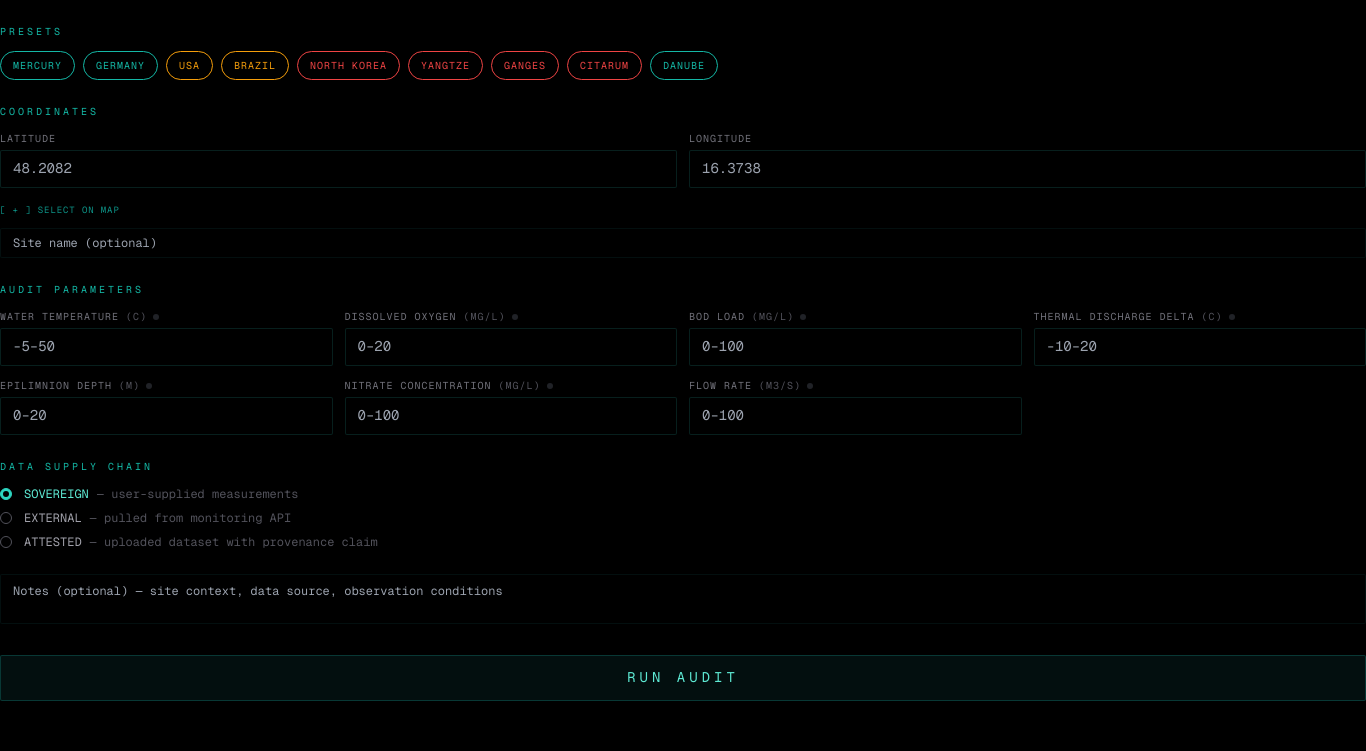
Test: SubmissionForm coordinates at submit › merges coordinate errors with the parameter errors
This screenshot has width=1366, height=751.
Click the button "GERMANY". click: click(120, 66)
box: [83,51,158,80]
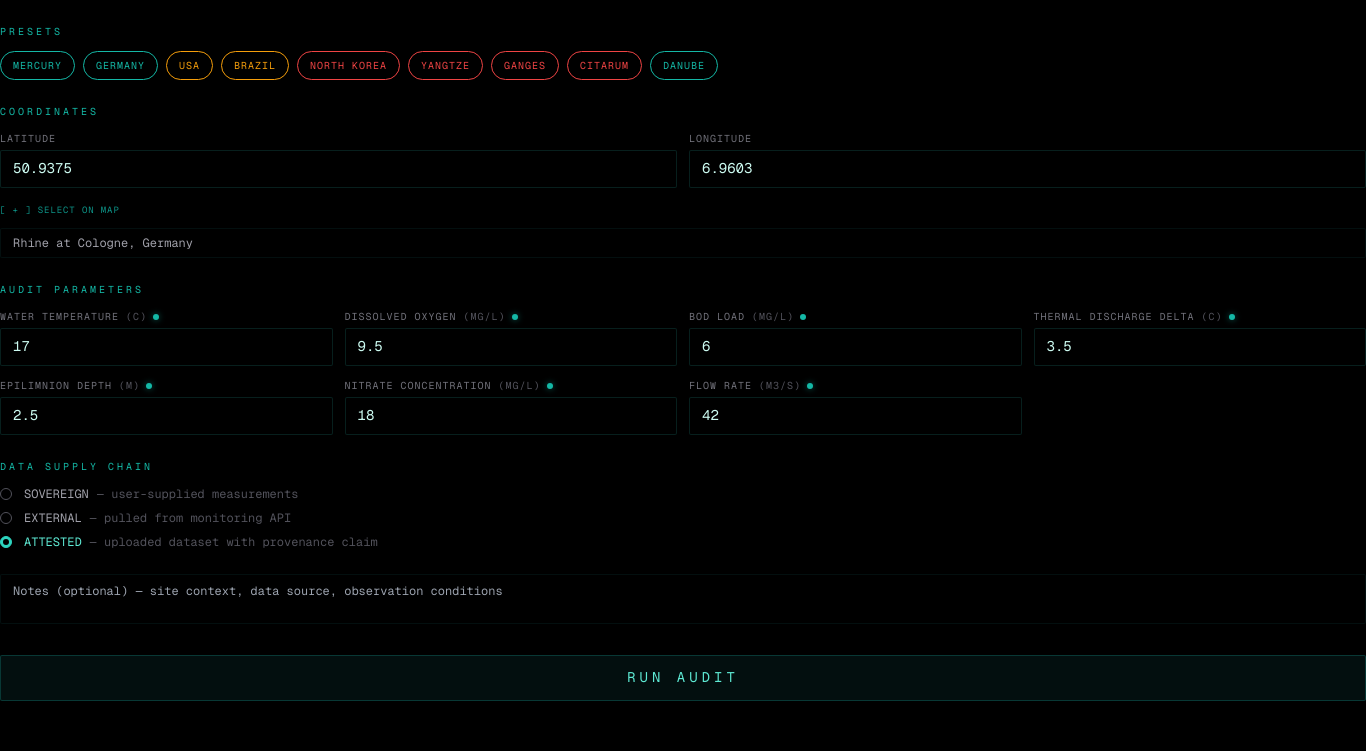
Replace the text in the number field below "Latitude" with "95". click: (338, 169)
box: [0,150,677,188]
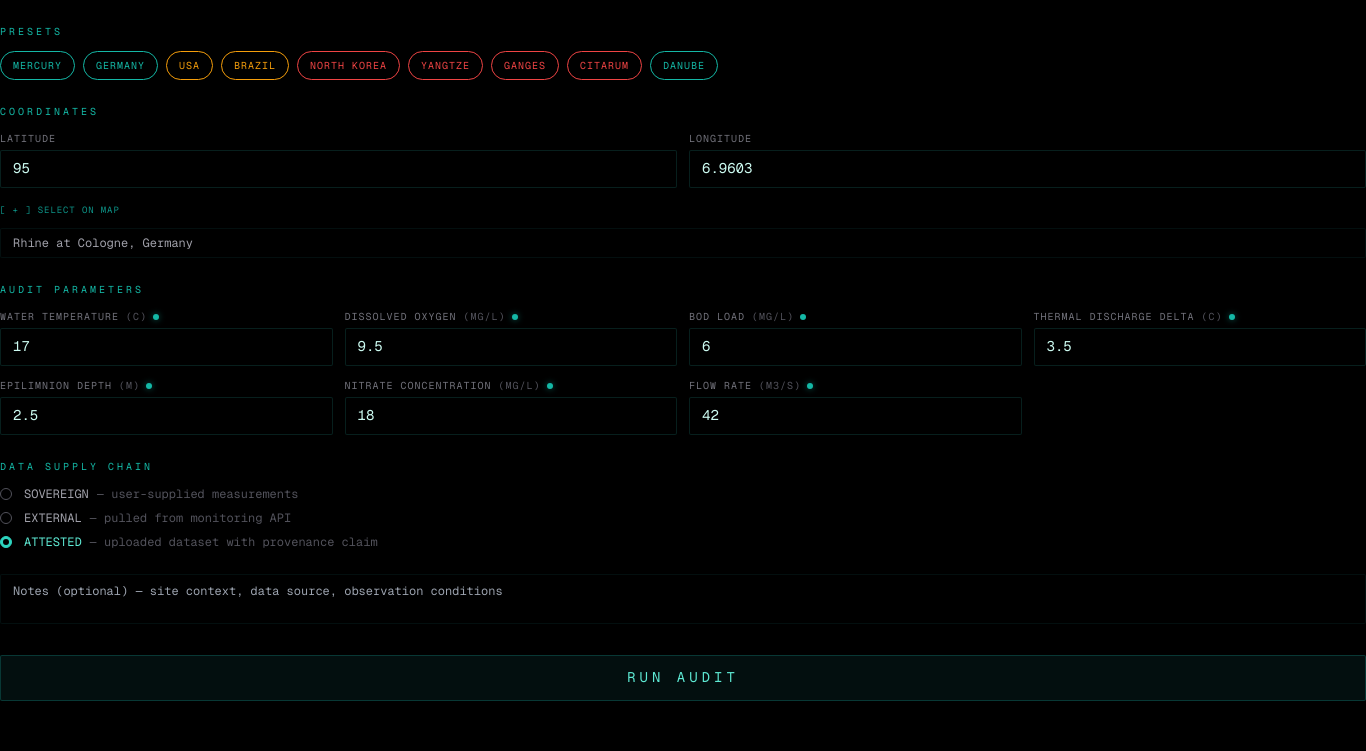
Replace the text in the number field below "Longitude" with "13.4". click: (1028, 169)
box: [689,150,1365,188]
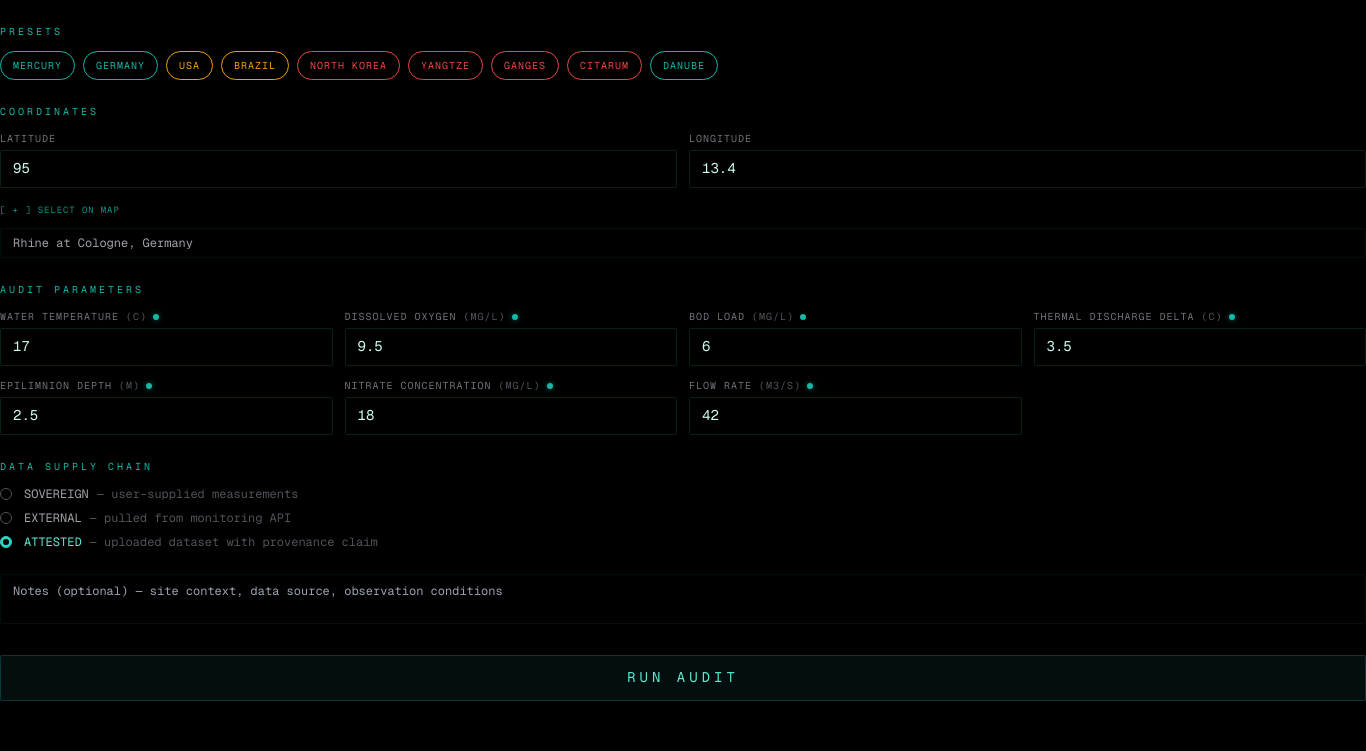
Replace the text in the number field below "BOD Load" with "500". click: (855, 347)
box: [689,328,1022,366]
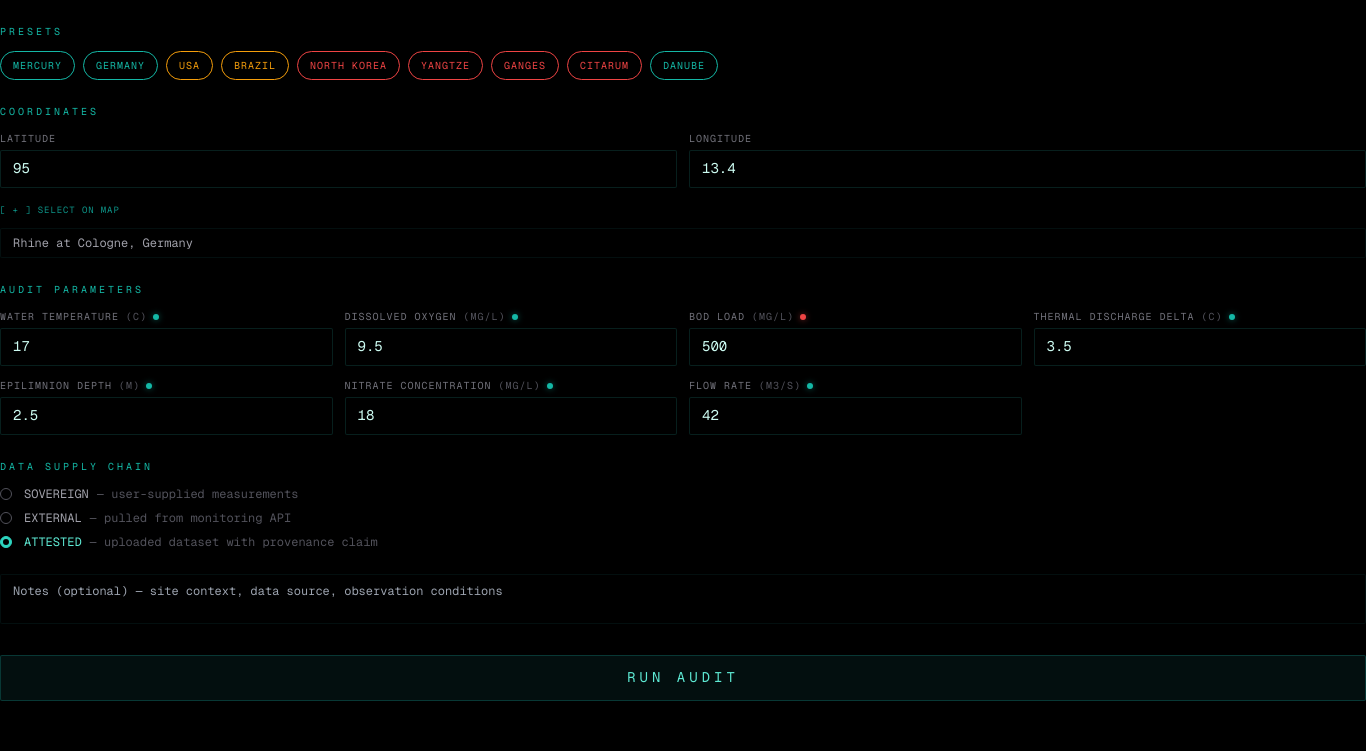
Click the button "RUN AUDIT". click: click(683, 678)
box: [0,655,1365,701]
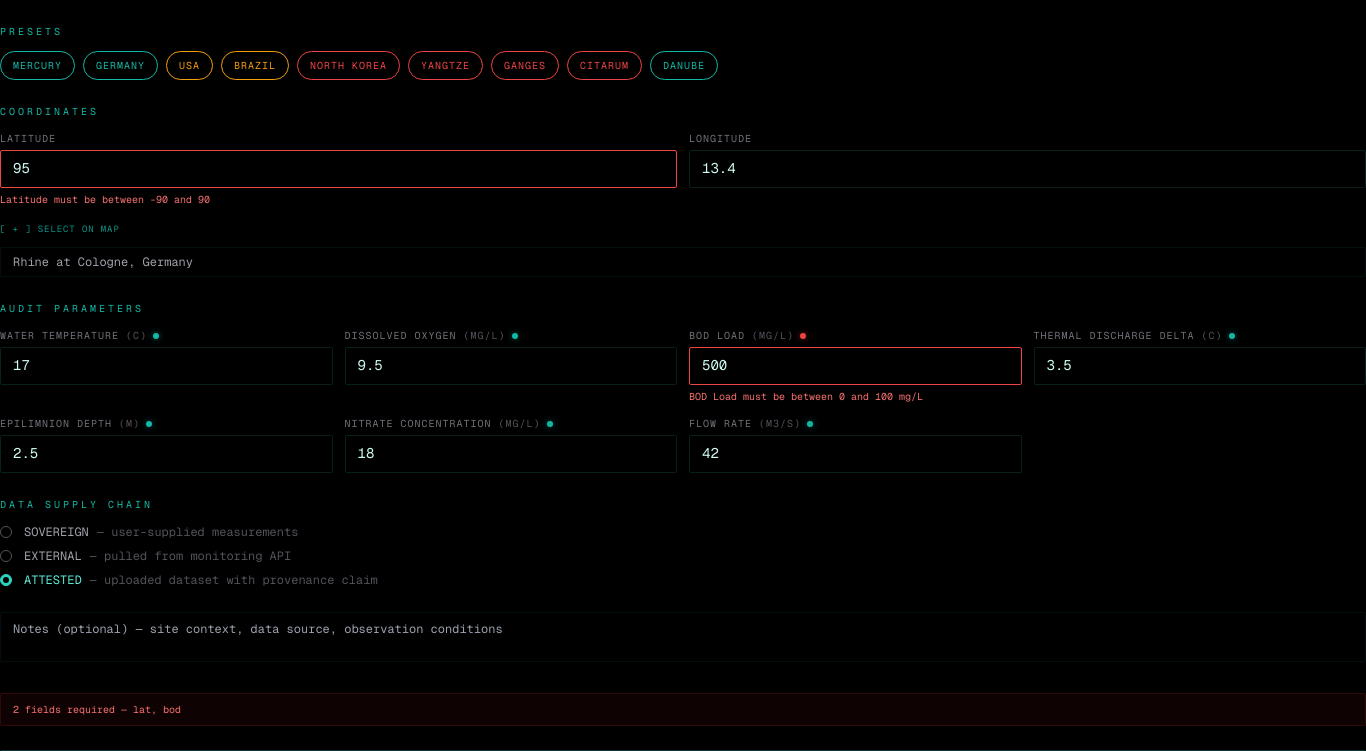
Check: the text "Latitude must be between -90 and 90" is shown, box [0,193,210,206]
